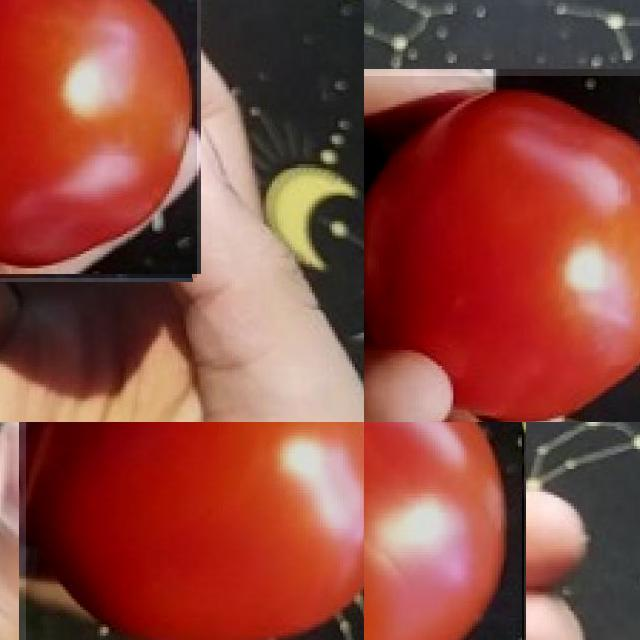Fresh Tomato: (364, 76, 640, 422), (25, 422, 364, 640), (0, 0, 197, 278), (364, 422, 524, 640)
